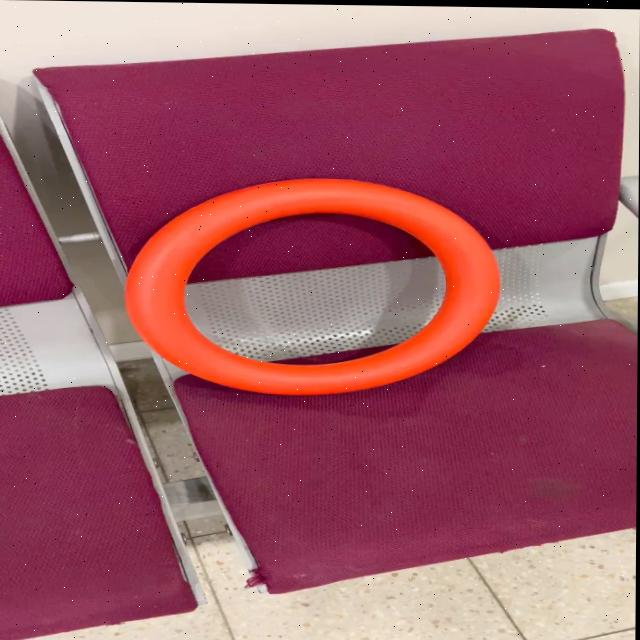note: (121, 173, 506, 399)
